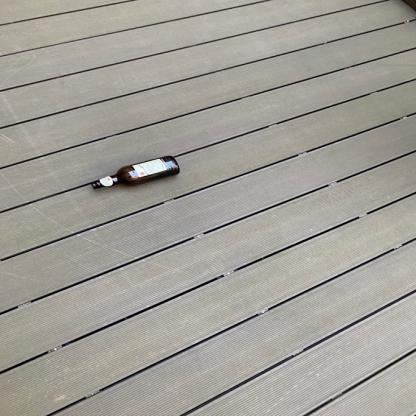trash: (88, 157, 180, 193)
